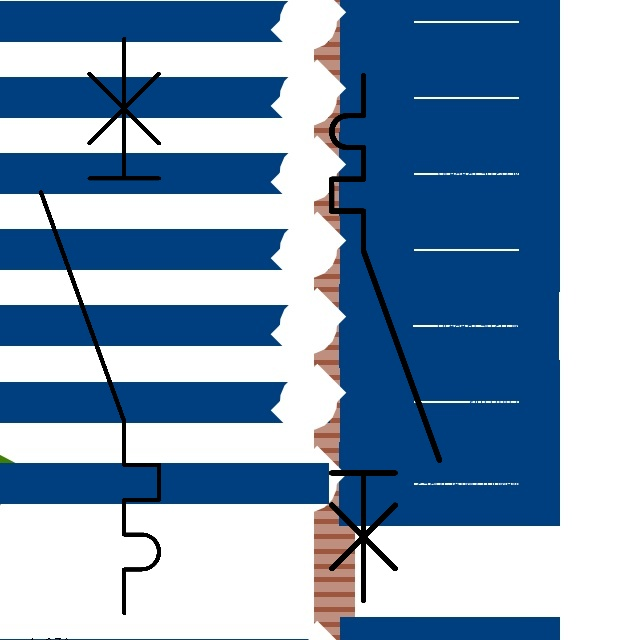interruptor_termomagnetico: (26, 24, 174, 628), (318, 62, 453, 614)
